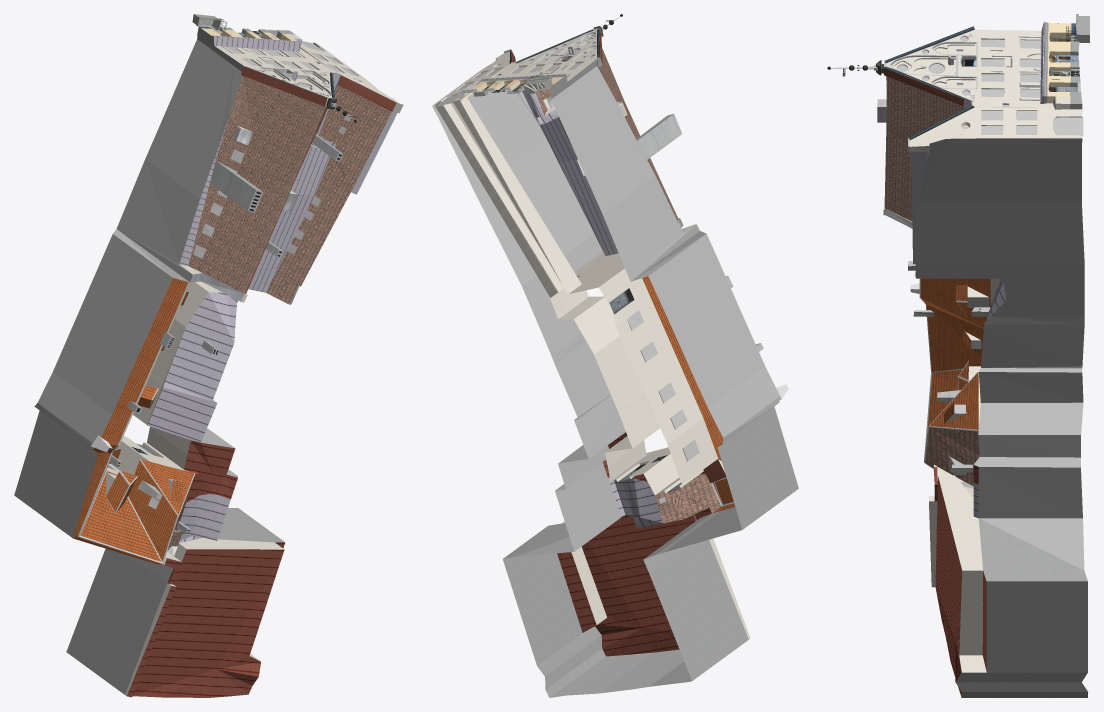
File: Kuninga_1.obj
3 views of the same model, side by side, from view 1: azimuth 30°, elevation 25°; view 2: azimuth 150°, elevation 25°; view 3: azimuth 270°, elevation 25° (orthographic). The views are drawn at different scales.
Parts seen in each view (by area): view 1: kuninga_1; view 2: kuninga_1; view 3: kuninga_1.
Part boxes in pixels (x1,y1,x2,y2): kuninga_1: (14,14,403,697); kuninga_1: (432,14,798,697); kuninga_1: (827,14,1089,697).
Bounding box in the file's own units: 39.82 × 76.28 × 26.47.
